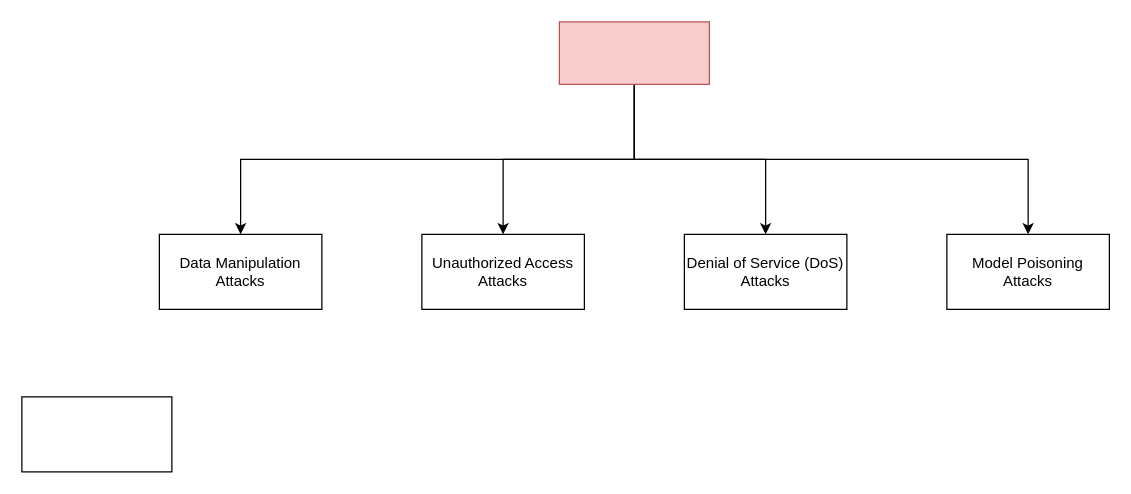
The diagram is 1131 pixels wide and 494 high, and some of its shapes have lost their labels. The shapes that lost their labels are listed below. From the top down, each one's centre as x and y in pixels, then its label:
At pixel 633 52: "Stock Analysis AI".
At pixel 96 434: "Manipulate Training Data".
